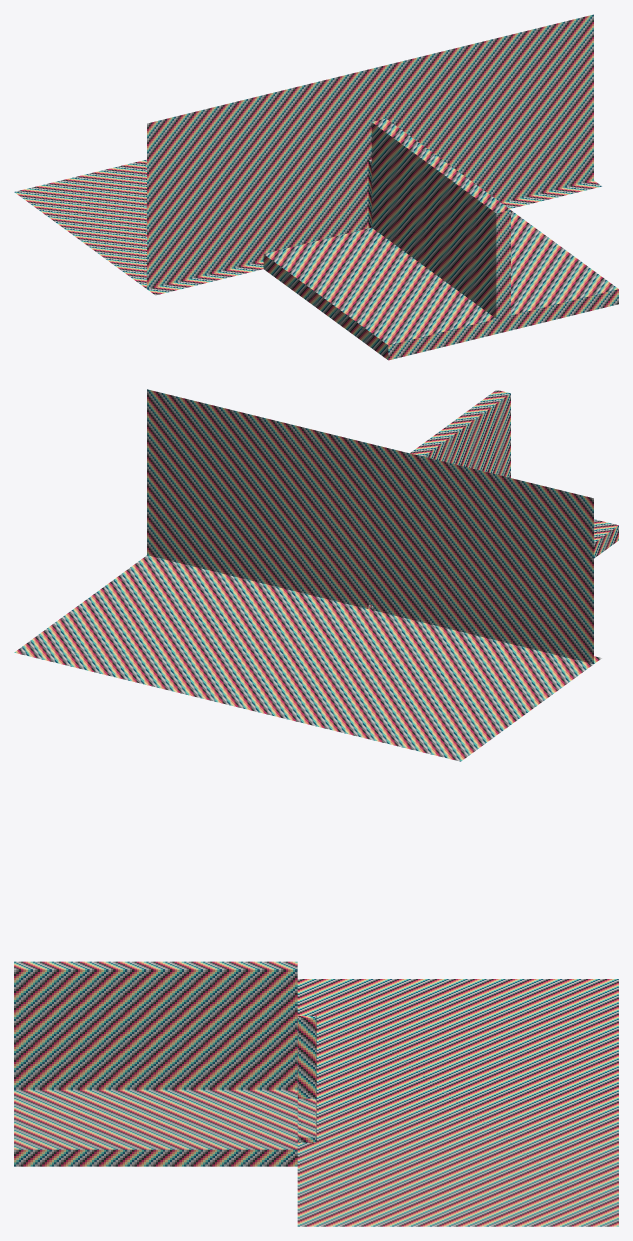
Rendered from 230719_room.glb.
3 renders of one model, top to bottom at view 1: azimuth 30°, elevation 25°; view 2: azimuth 150°, elevation 25°; view 3: azimuth 270°, elevation 25°, orthographic. The views are drawn at different scales.
Visible parts, largest first — view 1: wallOutside, wallOutsideHoleMaxWidth, ceilingRoomMaxWidth, wallOutsideHoleMaxHeight, wallRoomMaxHeight, floorOutside, wallRoomMaxWidth, ceilingRoomMaxHeight; view 2: wallOutside, floorOutside, wallOutsideHoleMaxWidth, wallOutsideHoleMaxHeight, wallRoomMaxHeight, ceilingRoomMaxHeight; view 3: floorOutside, wallRoomMaxHeight, ceilingRoomMaxWidth, wallRoomMaxWidth, ceilingRoomMaxHeight, wallOutsideHoleMaxHeight, wallOutsideHoleMaxWidth.
Boxes of the visible parts, x1,y1,x2,y2 form: wallOutside: (147,14,593,289); wallOutsideHoleMaxWidth: (147,16,593,288); ceilingRoomMaxWidth: (264,210,618,345); wallOutsideHoleMaxHeight: (147,15,593,288); wallRoomMaxHeight: (371,122,510,333); floorOutside: (14,159,601,295); wallRoomMaxWidth: (263,254,618,360); ceilingRoomMaxHeight: (372,118,510,213); wallOutside: (147,389,593,663); floorOutside: (14,555,601,761); wallOutsideHoleMaxWidth: (147,390,593,663); wallOutsideHoleMaxHeight: (147,390,593,663); wallRoomMaxHeight: (424,393,510,477); ceilingRoomMaxHeight: (410,390,510,456); floorOutside: (297,979,618,1226); wallRoomMaxHeight: (14,969,297,1089); ceilingRoomMaxWidth: (14,1089,297,1149); wallRoomMaxWidth: (14,1149,297,1166); ceilingRoomMaxHeight: (14,961,297,969); wallOutsideHoleMaxHeight: (298,1015,316,1098); wallOutsideHoleMaxWidth: (298,1098,316,1142).
Bounding box in the file's own units: 31 × 11 × 32.
Materials: 7 (7 with a texture image).
